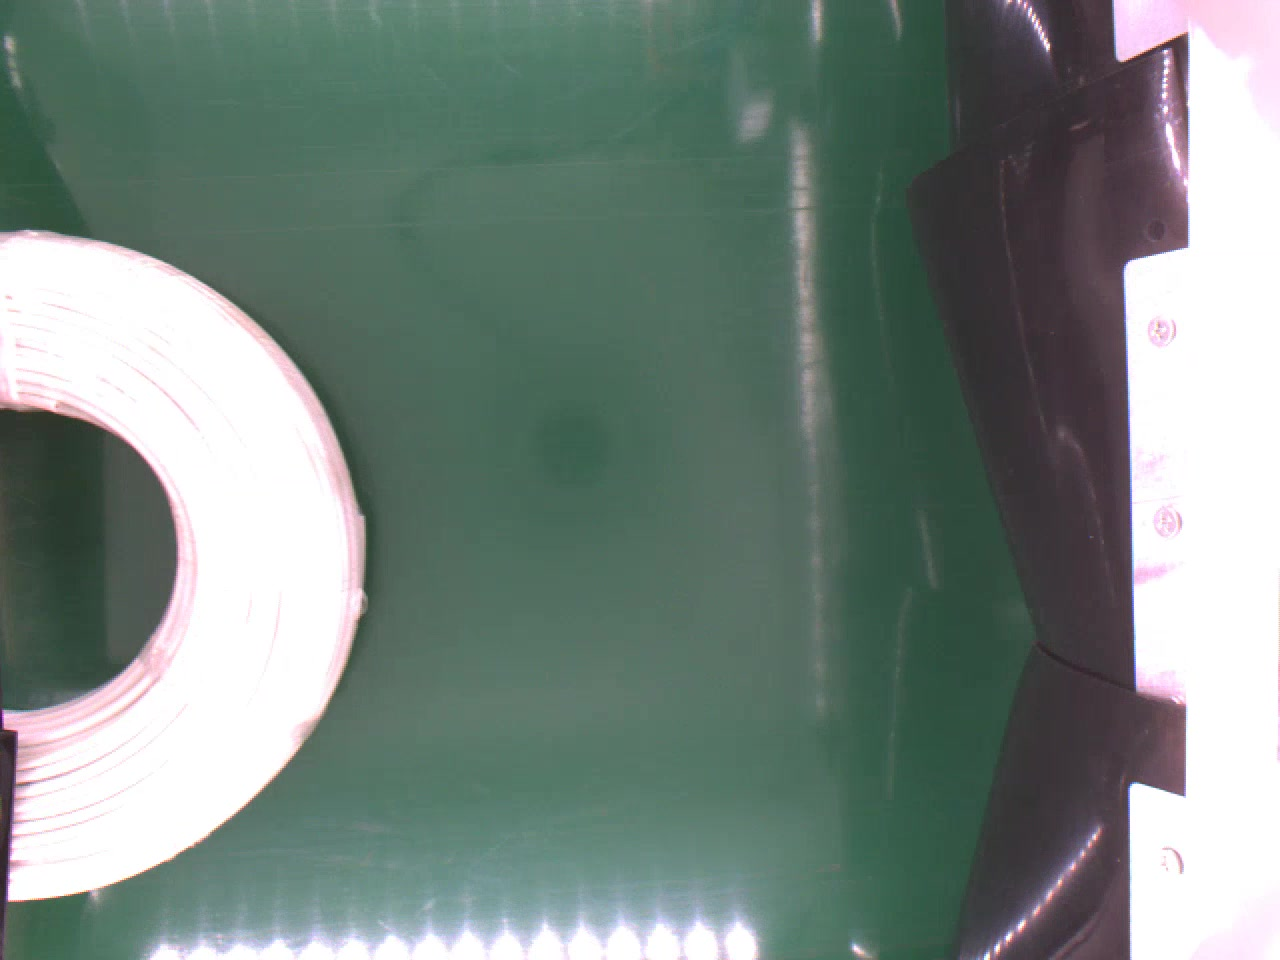white: (0, 226, 368, 906)
